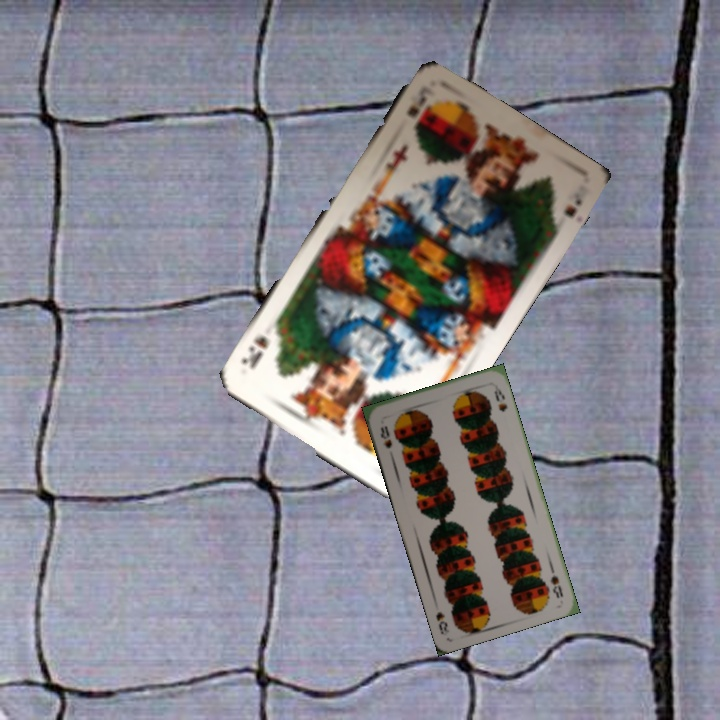S8: (546, 561, 566, 601), (376, 421, 395, 451)
SK: (403, 87, 436, 121)
